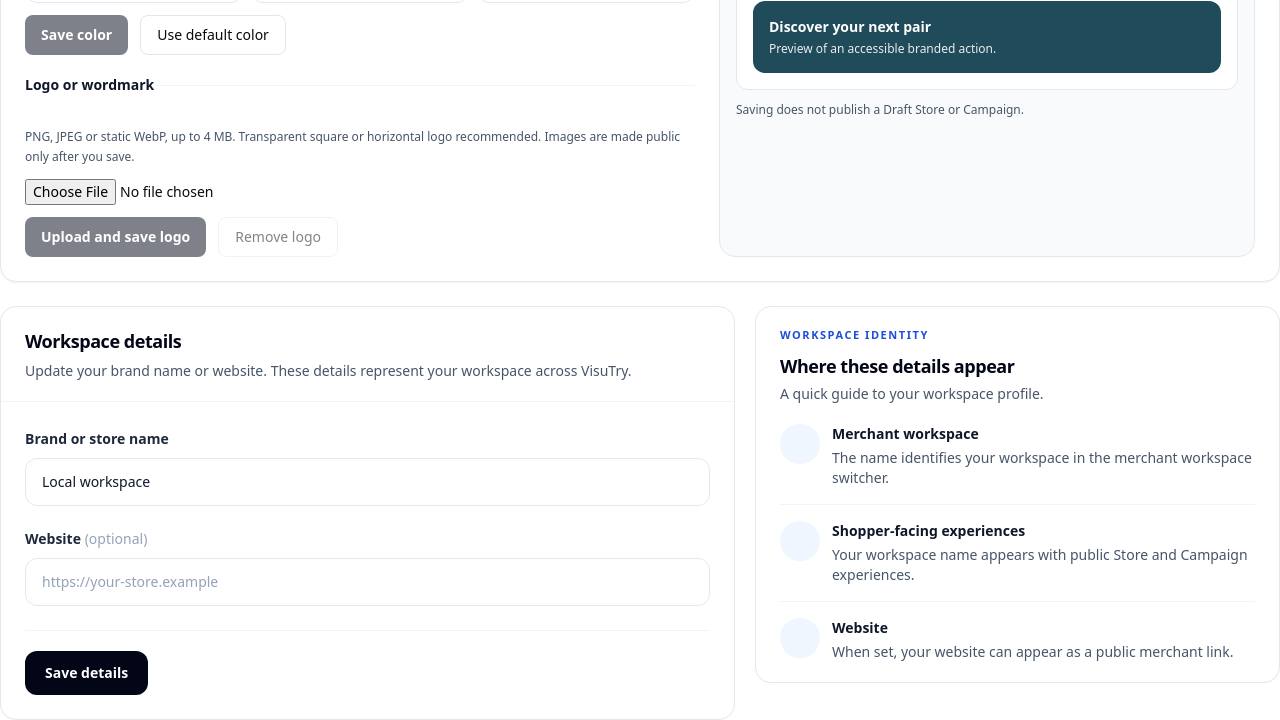
Test: MerchantWorkspaceSettings › keeps Save disabled for a trimmed name shorter than two characters
The image size is (1280, 720).
(page scrolled)
Replace the text in the field labelled "Brand or store name" with " A " at (368, 482), box [25, 458, 710, 506]
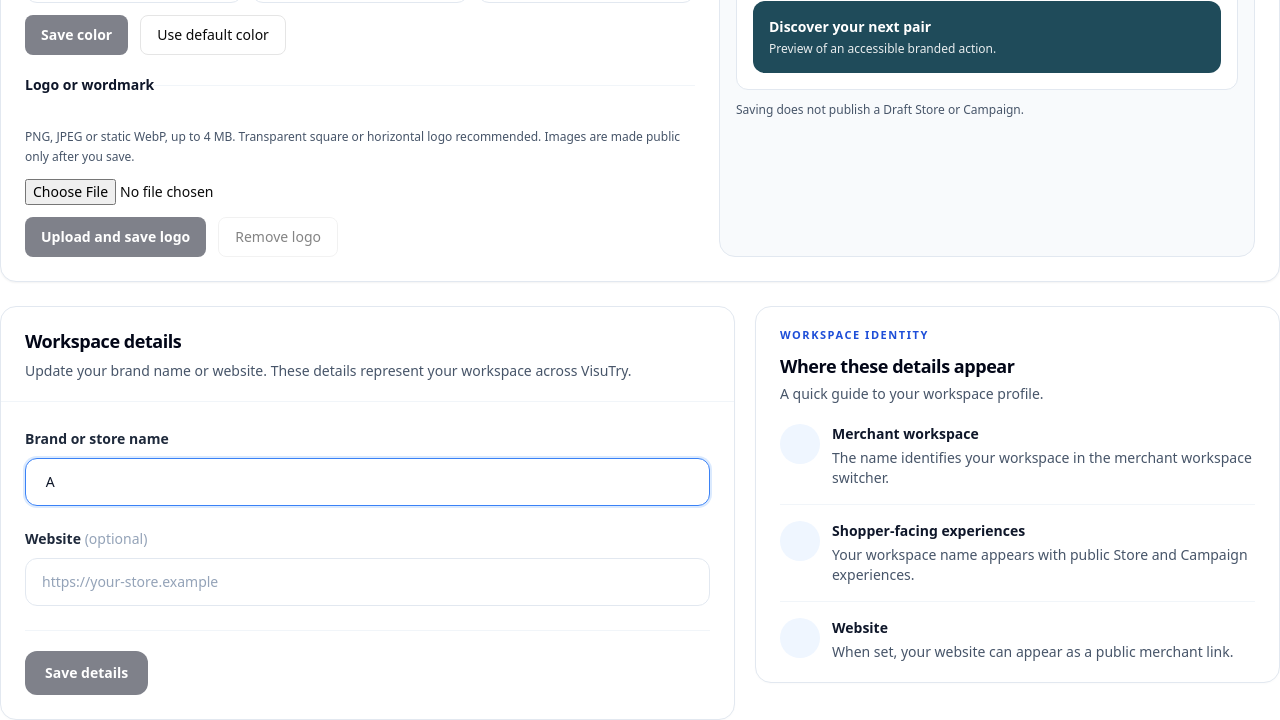
Expected: the button "Save details" is disabled, [25, 651, 148, 695]
Replace the text in the field labelled "Brand or store name" with "Revised workspace" at (368, 482), box [25, 458, 710, 506]
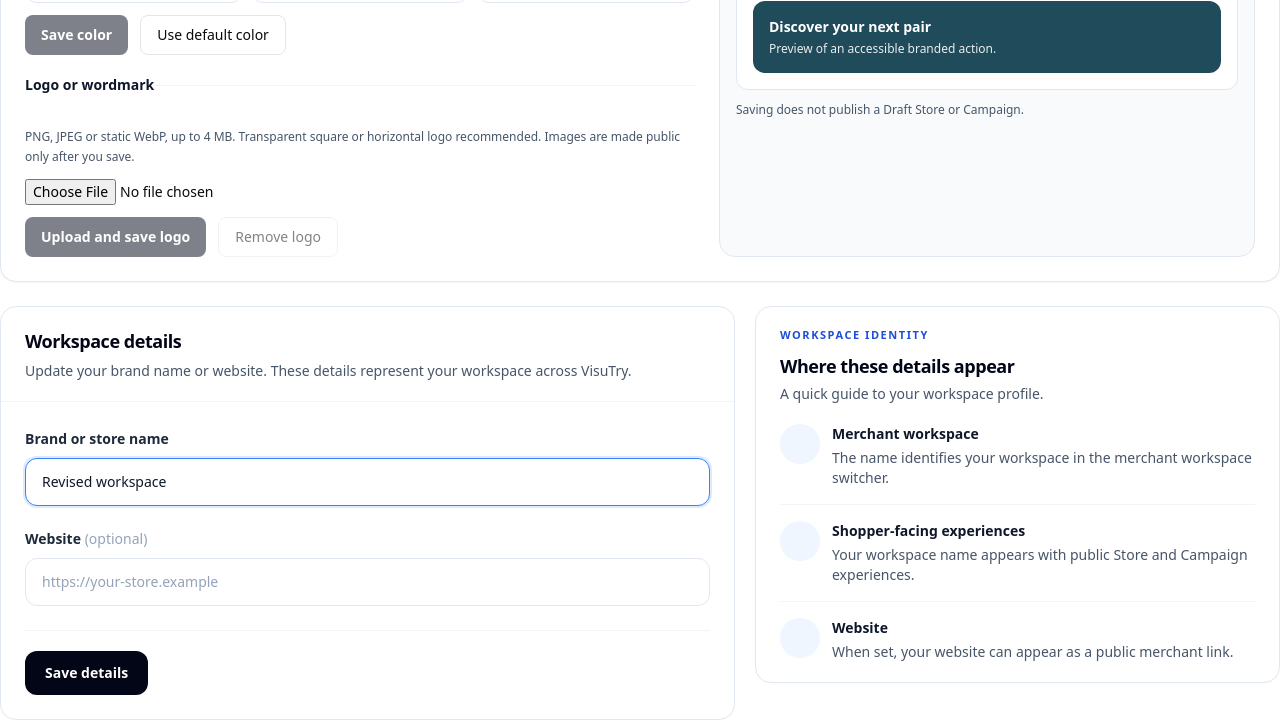
Expected: the button "Save details" is enabled, [25, 651, 148, 695]
